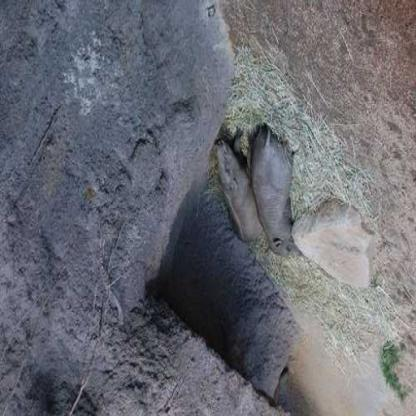boar: (253, 107, 318, 260), (212, 131, 256, 253)
